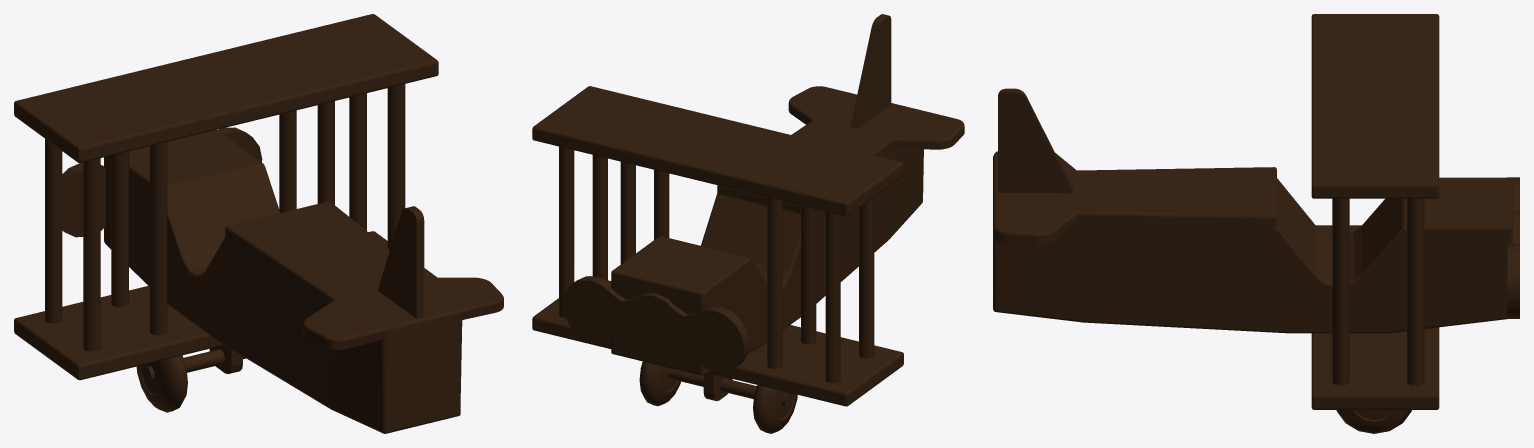
Rendered from avion.glb.
3 renders of one model, left to right at view 1: azimuth 30°, elevation 25°; view 2: azimuth 150°, elevation 25°; view 3: azimuth 270°, elevation 25°, orthographic. The views are drawn at different scales.
Parts seen in each view (by area): view 1: wing; view 2: wing; view 3: wing.
Boxes of the visible parts, left/top/right/bottom form: wing: left=14, top=14, right=503, bottom=433; wing: left=532, top=14, right=964, bottom=433; wing: left=993, top=14, right=1519, bottom=433.
Size of the model in its own units: 0.2936 by 0.249 by 0.3815.
